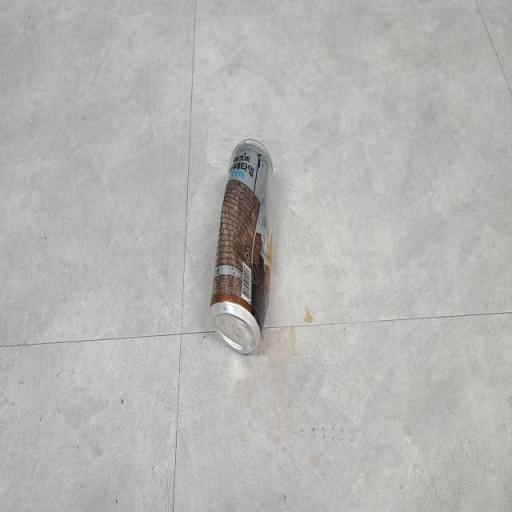metal: (198, 120, 296, 374)
